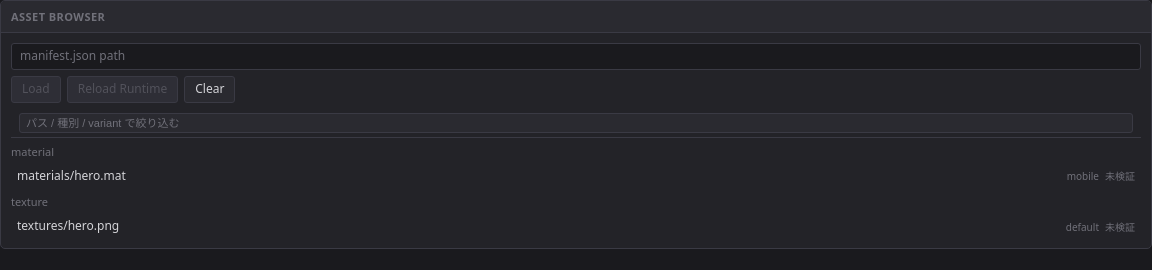
AssetBrowserPanel — filter input › shows a no-match state distinct from the empty manifest state
The width and height of the screenshot is (1152, 270).
Type "zzz" into the search field named "アセットを絞り込む".
click(576, 123); type("zzz")  # box [19,113,1133,133]
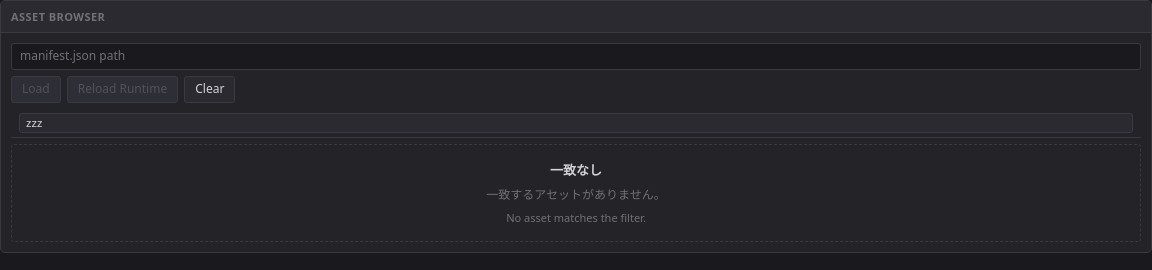
Expected: the text "一致するアセットがありません。" is shown, [486,187,666,204]
